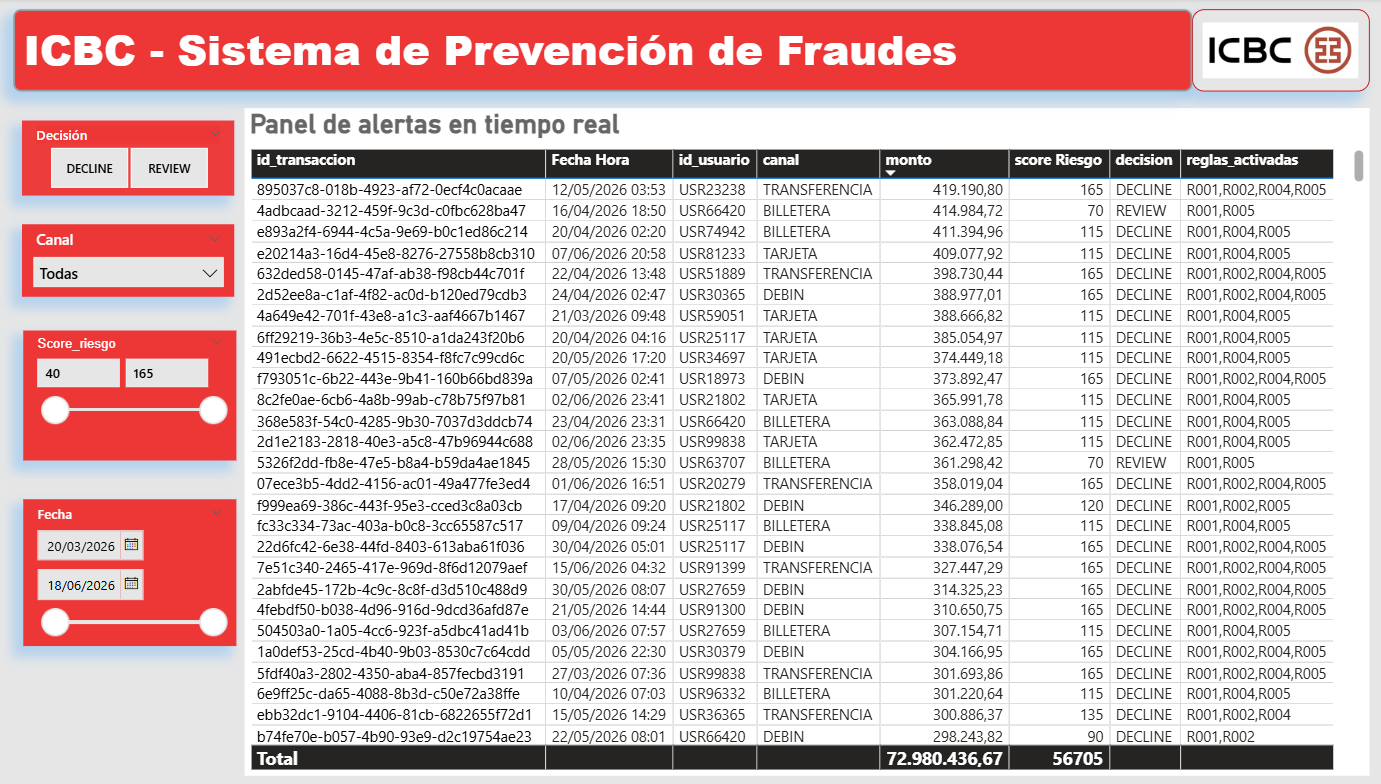

What the dashboard file says about the page in this screenshot:
{"tool":"powerbi","page":{"name":"Alertas Pendientes REVIEW / DECLINE","canvas":[1280,720],"ordinal":1},"visuals":[{"type":"tableEx","title":"Panel de alertas en tiempo real","fields":{"Values":["vista_alertas_monitoreo.id_transaccion","fact_transacciones.Fecha Hora Texto","vista_alertas_monitoreo.id_usuario","vista_alertas_monitoreo.canal","Sum(vista_alertas_monitoreo.monto)","Sum(vista_alertas_monitoreo.score_riesgo)","vista_alertas_monitoreo.decision","vista_alertas_monitoreo.reglas_activadas"]},"box":[232.9,99.5,1017.6,603.8],"z":0},{"type":"image","box":[1090,10.2,160.6,74.6],"z":1000},{"type":"textbox","box":[23.7,10.2,1066.2,74.6],"z":2000},{"type":"slicer","fields":{"Values":["vista_alertas_monitoreo.decision"]},"box":[32.1,110.4,192.4,67.7],"z":4000},{"type":"slicer","fields":{"Values":["vista_alertas_monitoreo.canal"]},"box":[32.1,204.3,192.4,65.3],"z":5000},{"type":"slicer","fields":{"Values":["vista_alertas_monitoreo.score_riesgo"]},"box":[32.5,301.2,192.5,117.5],"z":6000},{"type":"slicer","fields":{"Values":["vista_alertas_monitoreo.fecha_hora"]},"box":[32.5,453.8,192.5,132.5],"z":7000}]}

Visuals, with their boxes in screenshot pixels (x1, y1, x2, y2), scaled from the page's 1280x720 canvas onto the 1381x784 screenshot:
"Panel de alertas en tiempo real" tableEx: [251, 108, 1349, 766]
image: [1176, 11, 1349, 92]
textbox: [26, 11, 1176, 92]
slicer - vista_alertas_monitoreo.decision: [35, 120, 242, 194]
slicer - vista_alertas_monitoreo.canal: [35, 222, 242, 294]
slicer - vista_alertas_monitoreo.score_riesgo: [35, 328, 243, 456]
slicer - vista_alertas_monitoreo.fecha_hora: [35, 494, 243, 638]
